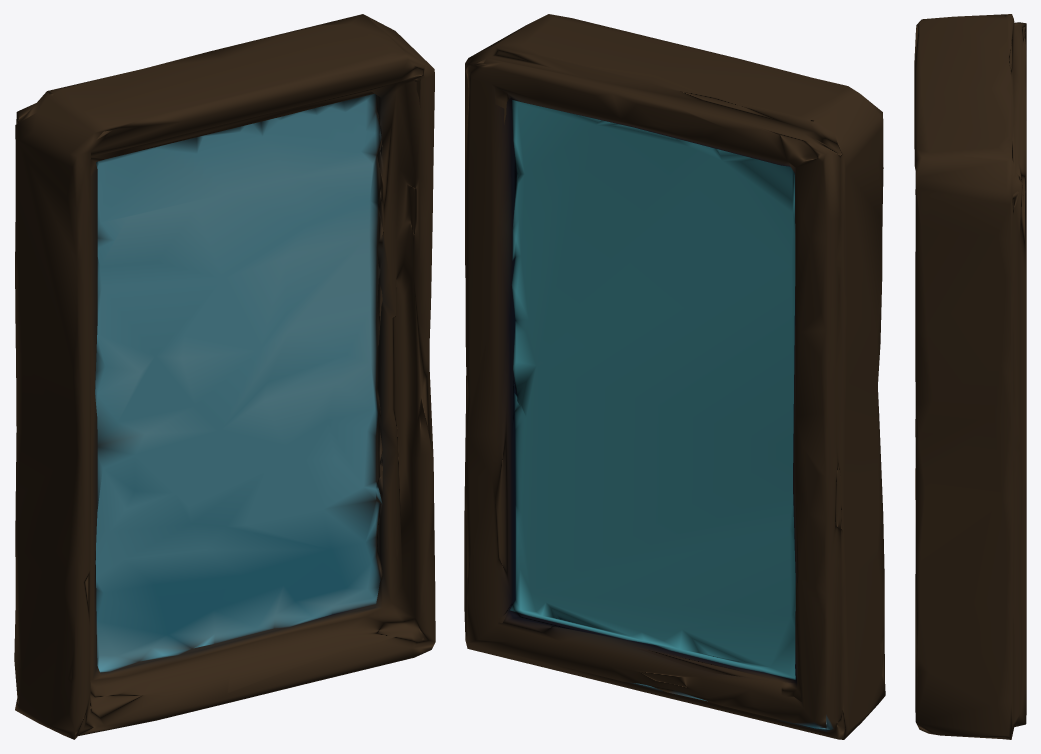
Rendered from gen3d-mirror-lod0.glb.
3 views of the same model, side by side, from view 1: azimuth 30°, elevation 25°; view 2: azimuth 150°, elevation 25°; view 3: azimuth 270°, elevation 25° (orthographic). The views are drawn at different scales.
Visible parts, largest first — view 1: part_0; view 2: part_0; view 3: part_0.
Part boxes in pixels (<box>): part_0: <box>14,14,435,739</box>; part_0: <box>464,14,885,739</box>; part_0: <box>914,14,1026,739</box>.
Size of the model in its own units: 0.65 by 1 by 0.1784.
